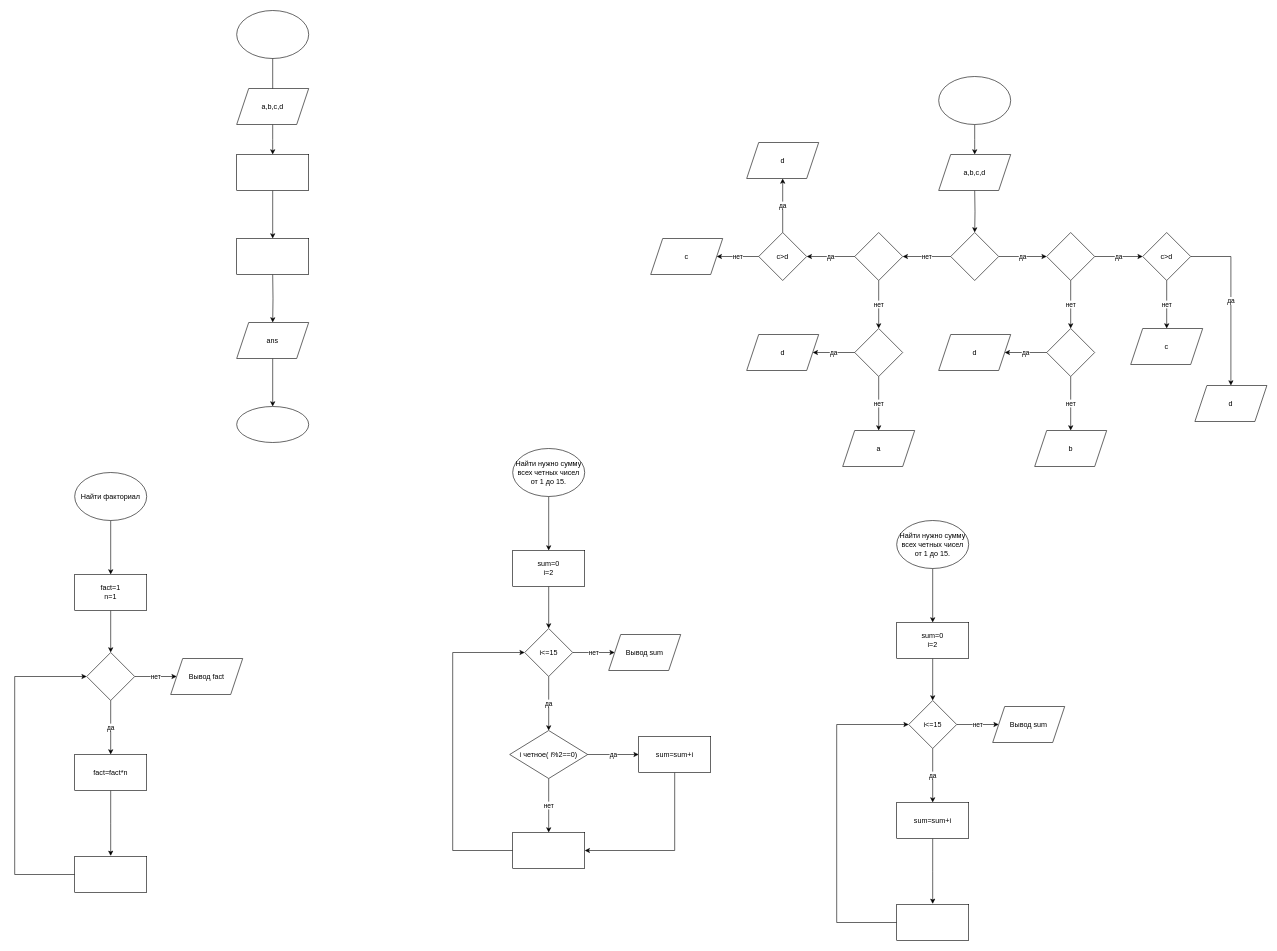
This 1277x951 diagram has some shape labels left out. The shapes that lost their labels are listed below. From the top down, each one's centre as x and y in pixels, then its label:
At pixel 272 34: "Начало.Найти среднеарифметическое число".
At pixel 974 100: "Начало. Найти минимальное число".
At pixel 272 172: "sum=a+b+c+d".
At pixel 272 256: "ans=sum/4".
At pixel 878 256: "a>c".
At pixel 974 256: "a>b".
At pixel 1070 256: "b>c".
At pixel 878 352: "a>d".
At pixel 1070 352: "b>d".
At pixel 272 424: "Конец".
At pixel 110 676: "n<=i".
At pixel 548 850: "i=i+1".
At pixel 110 874: "n=n+1".
At pixel 932 922: "i=i+2".
